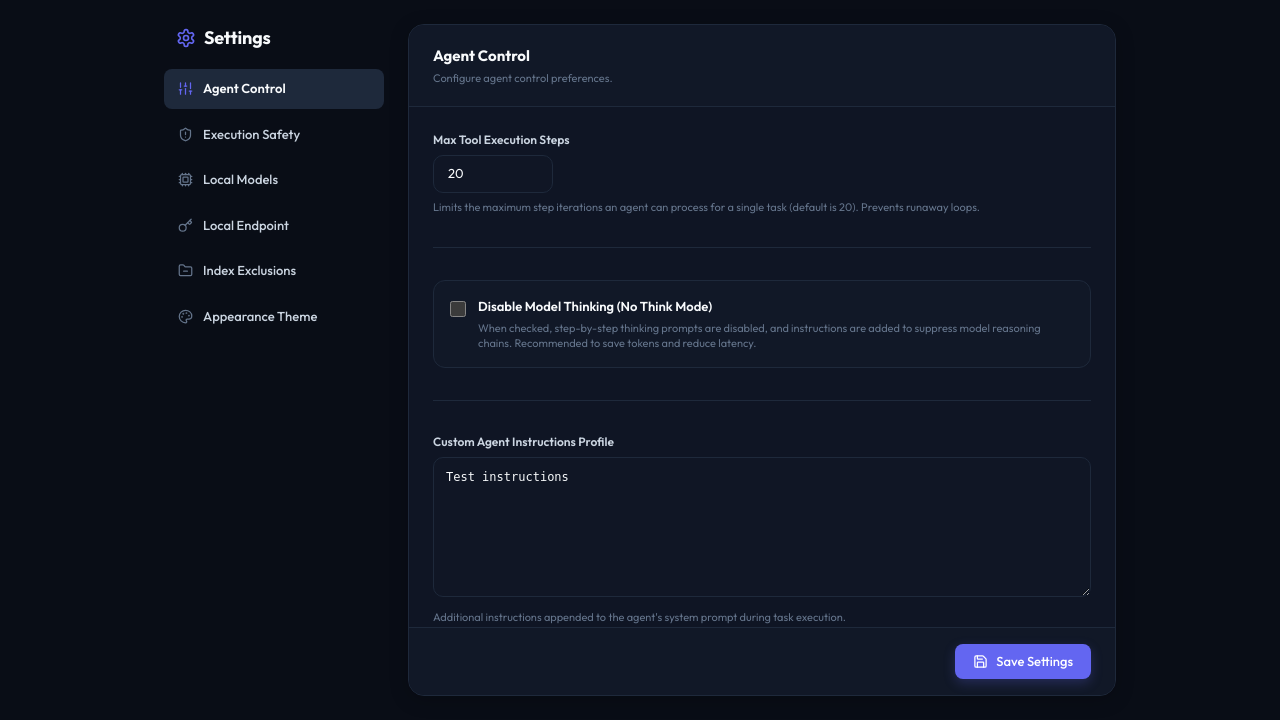
Scenario: SettingsPanel Component › renders initial form values from store settings after navigating tabs
This screenshot has width=1280, height=720.
Expected: the text "Max Tool Execution Steps" is shown, [433,132,570,147]
Expected: the text box showing "Test instructions" is shown, [433,457,1091,597]
Note: Click "Local Models" tab to view model fields
What coordinates should you click on to do the following:
click the button "Local Models"
I would click on:
 (274, 180)
Its box is [164,160,384,200].
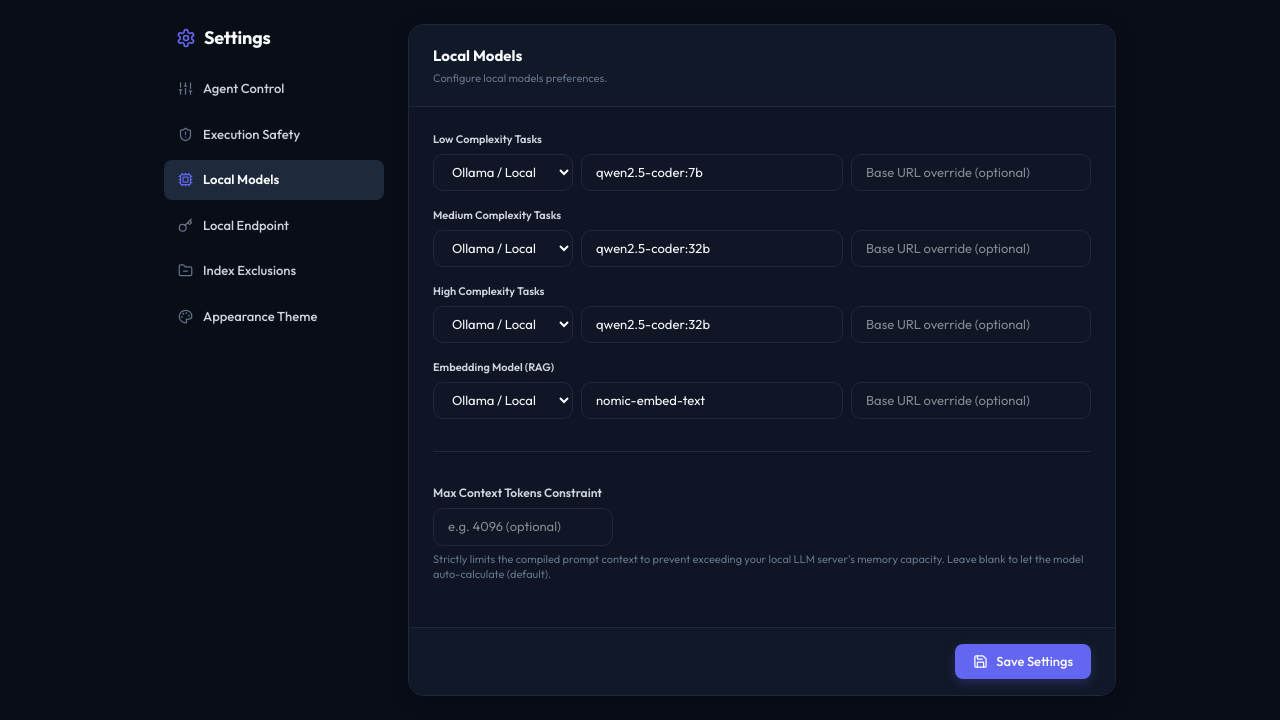
Result: the text "Low Complexity Tasks" is shown at [433,132,542,146]
Result: the field showing "qwen2.5-coder:7b" below "Low Complexity Tasks" is shown at [581,154,843,191]
Note: Click "Local Endpoint" tab to view endpoint field
What coordinates should you click on to do the following:
click the button "Local Endpoint"
I would click on:
 (274, 225)
Its box is [164,206,384,245].
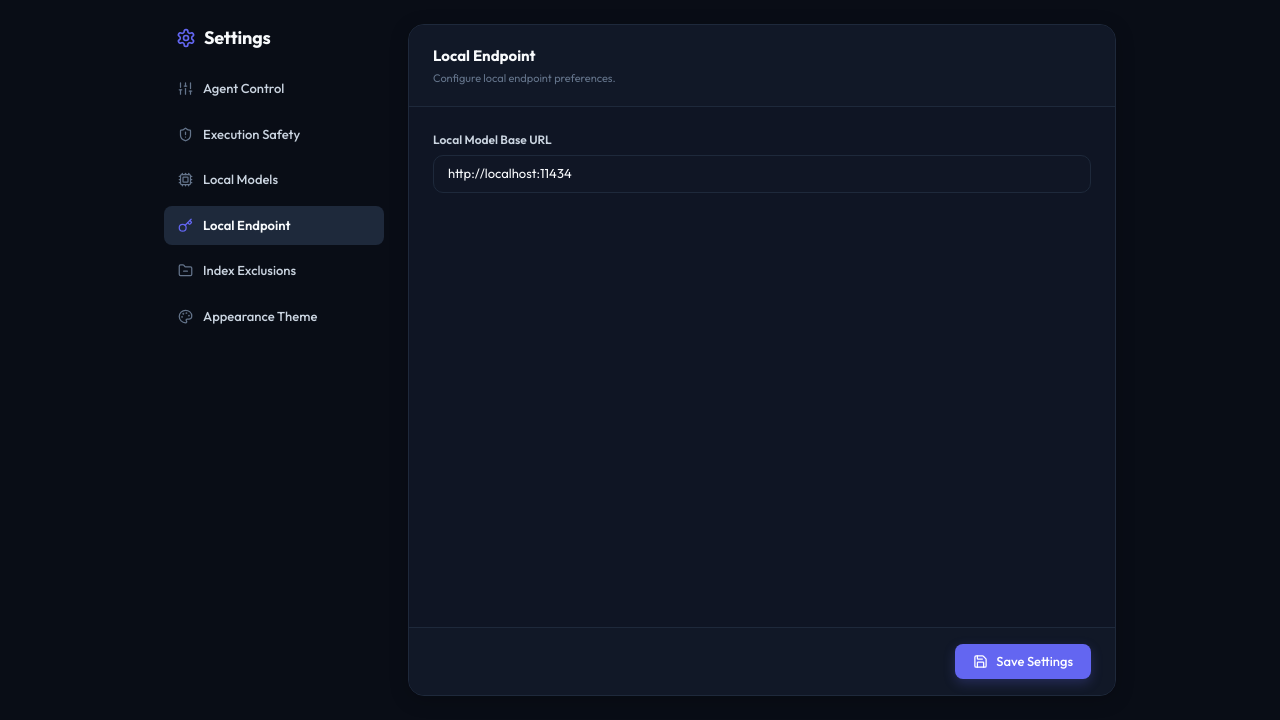
Result: the field showing "http://localhost:11434" is shown at [433,155,1091,192]
